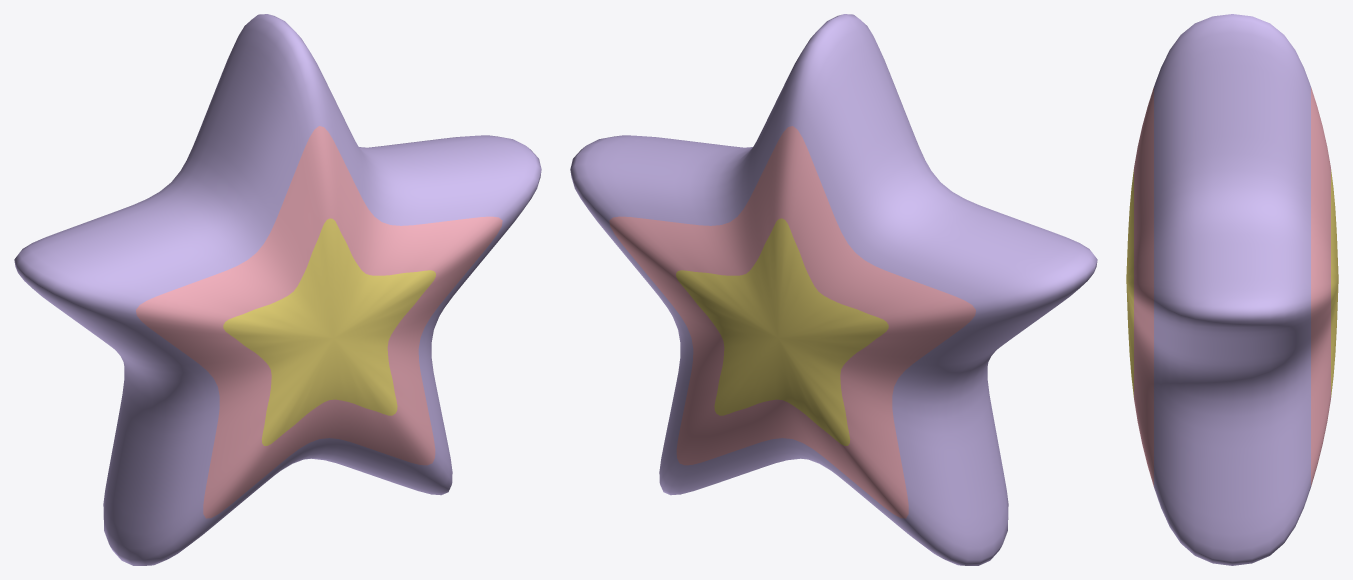
File: star_candy.glb
3 renders of one model, left to right at view 1: azimuth 30°, elevation 25°; view 2: azimuth 150°, elevation 25°; view 3: azimuth 270°, elevation 25°, orthographic. The views are drawn at different scales.
Visible parts, largest first — view 1: star_candy; view 2: star_candy; view 3: star_candy.
Part boxes in pixels (x1,y1,x2,y2): star_candy: [14, 14, 541, 565]; star_candy: [570, 14, 1097, 565]; star_candy: [1126, 14, 1338, 565].
Size of the model in its own units: 0.8 by 0.7628 by 0.3055.
